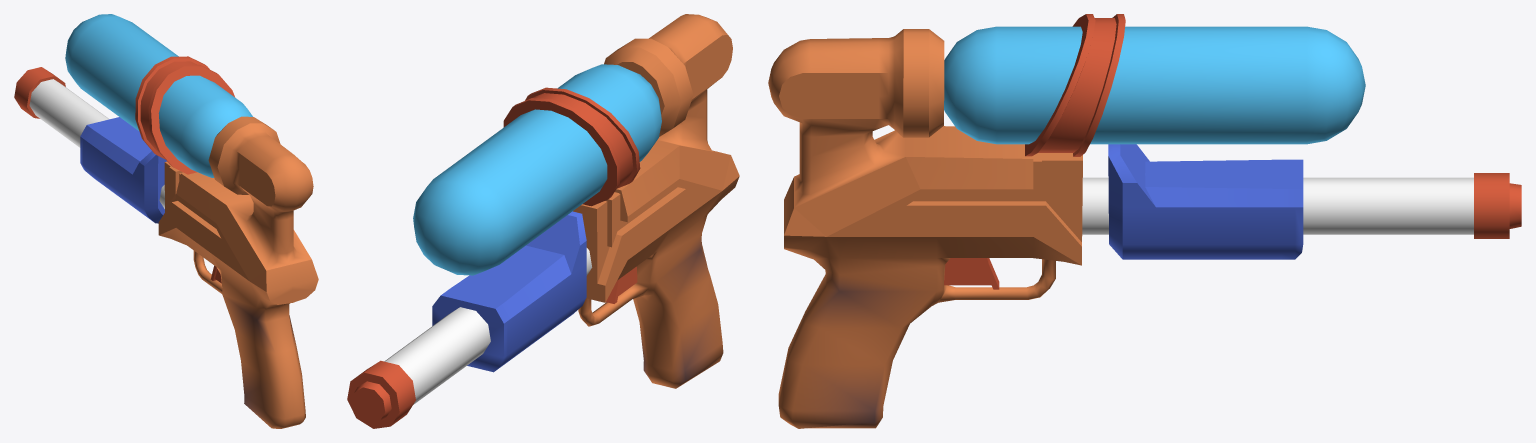
The model's file is watergun.fbx.
3 views of the same model, side by side, from view 1: azimuth 30°, elevation 25°; view 2: azimuth 150°, elevation 25°; view 3: azimuth 270°, elevation 25° (orthographic). The views are drawn at different scales.
Parts seen in each view (by area): view 1: Roundcube.001; view 2: Roundcube.001; view 3: Roundcube.001.
Part boxes in pixels (x1,y1,x2,y2): Roundcube.001: [14, 14, 318, 428]; Roundcube.001: [347, 14, 739, 428]; Roundcube.001: [768, 14, 1521, 428].
Bounding box in the file's own units: 40.92 × 127 × 216.
